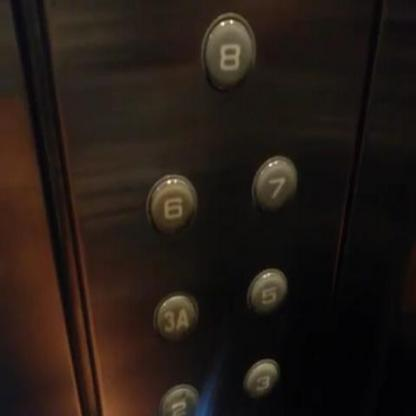3: (241, 356, 280, 399)
3A: (153, 289, 198, 342)
5: (245, 264, 288, 314)
6: (146, 172, 197, 236)
7: (250, 154, 299, 212)
8: (199, 10, 256, 93)
